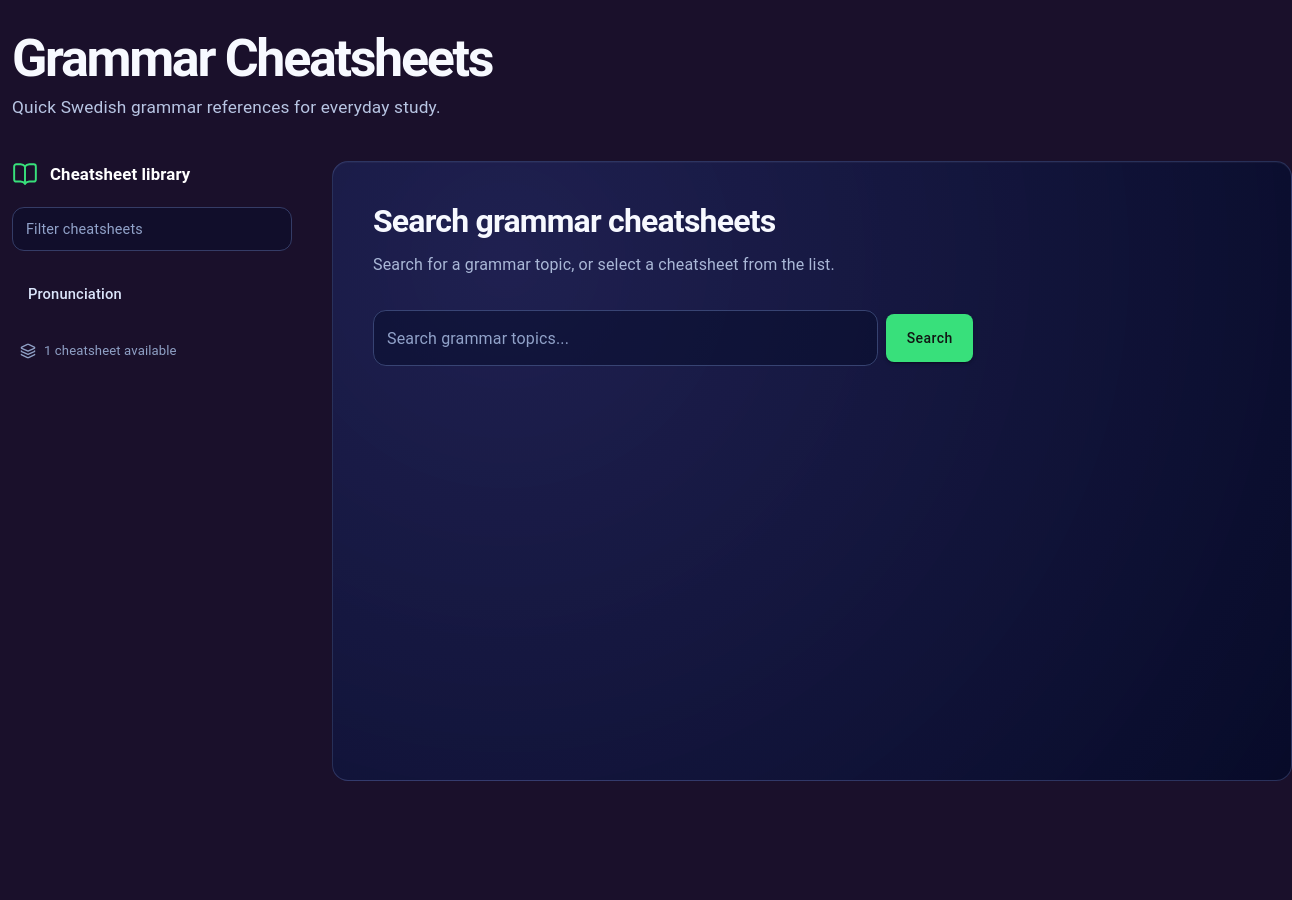
Scenario: GrammarView › should render selected cheatsheet content
# Click on the cheatsheet to select it
Click the button "Pronunciation".
click(75, 294)  # box [28, 285, 122, 303]
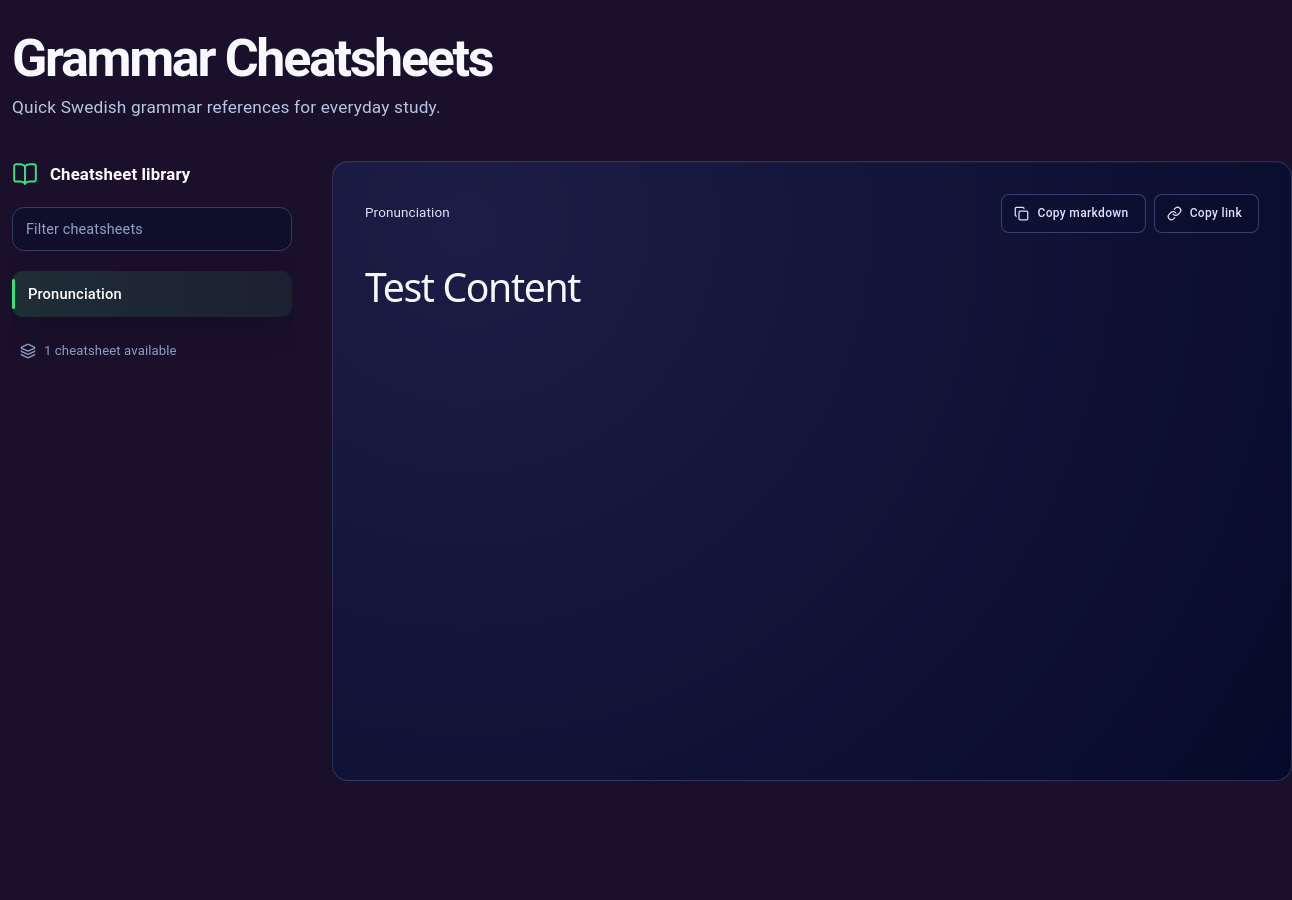
Now the element with class "markdown-content" is shown, box [365, 260, 580, 312]
Now the element "Pronunciation" is shown, box [332, 160, 1291, 780]
